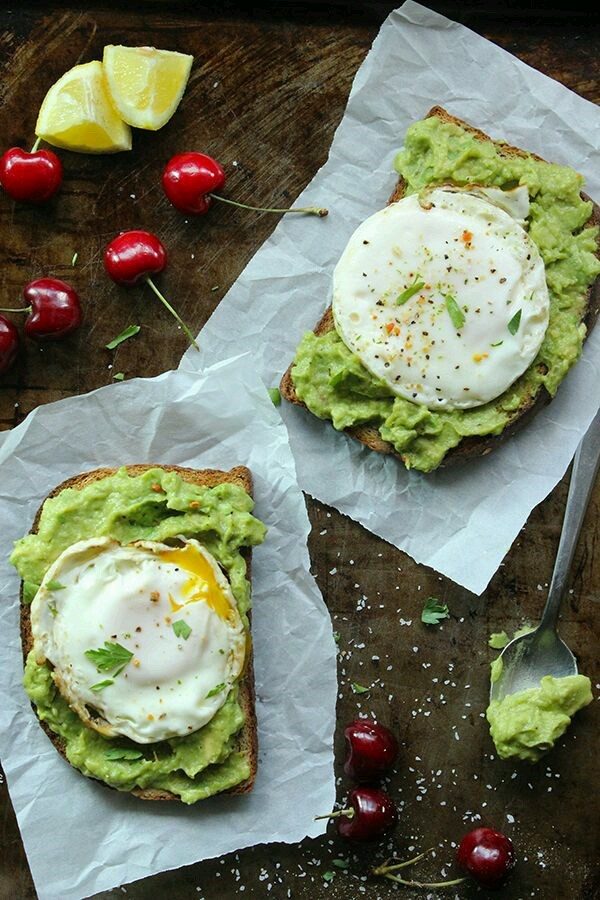fried egg: (341, 203, 525, 383), (55, 559, 227, 712)
